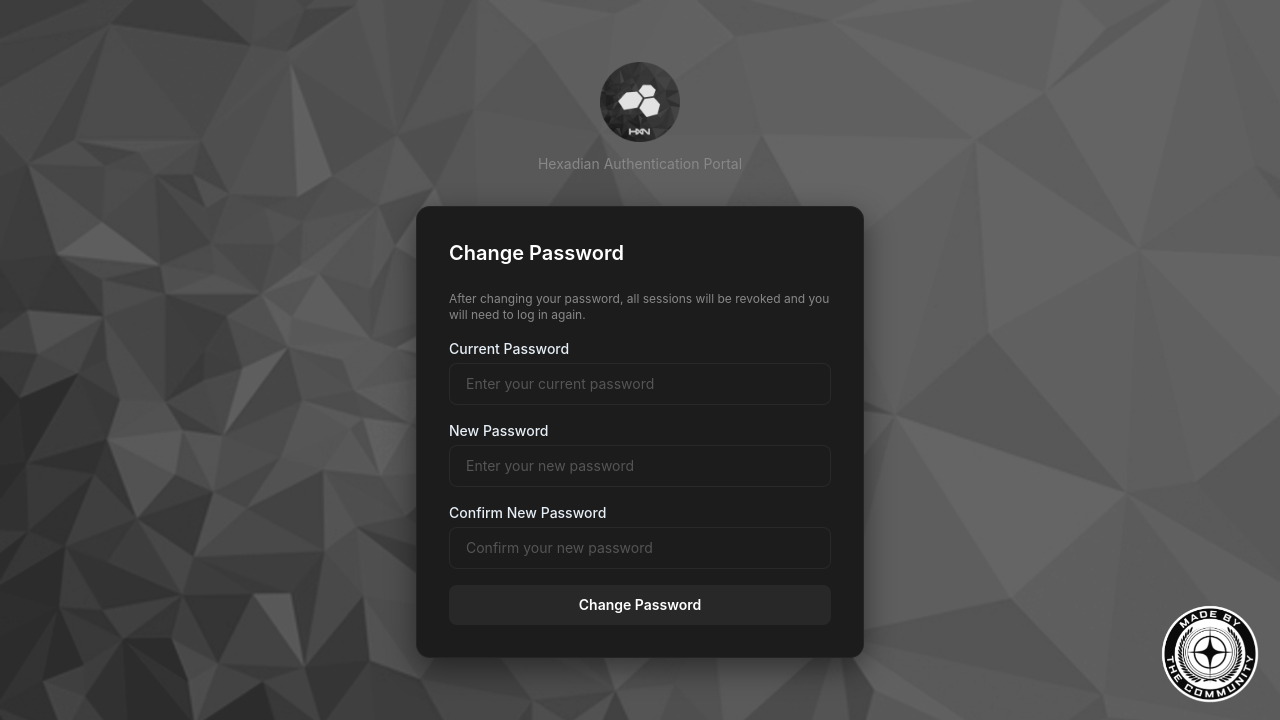
Test case: ChangePasswordPage › validation › shows validation errors on empty submit
Step 1. Click the button "Change Password" → (640, 605), box [449,585,831,625]
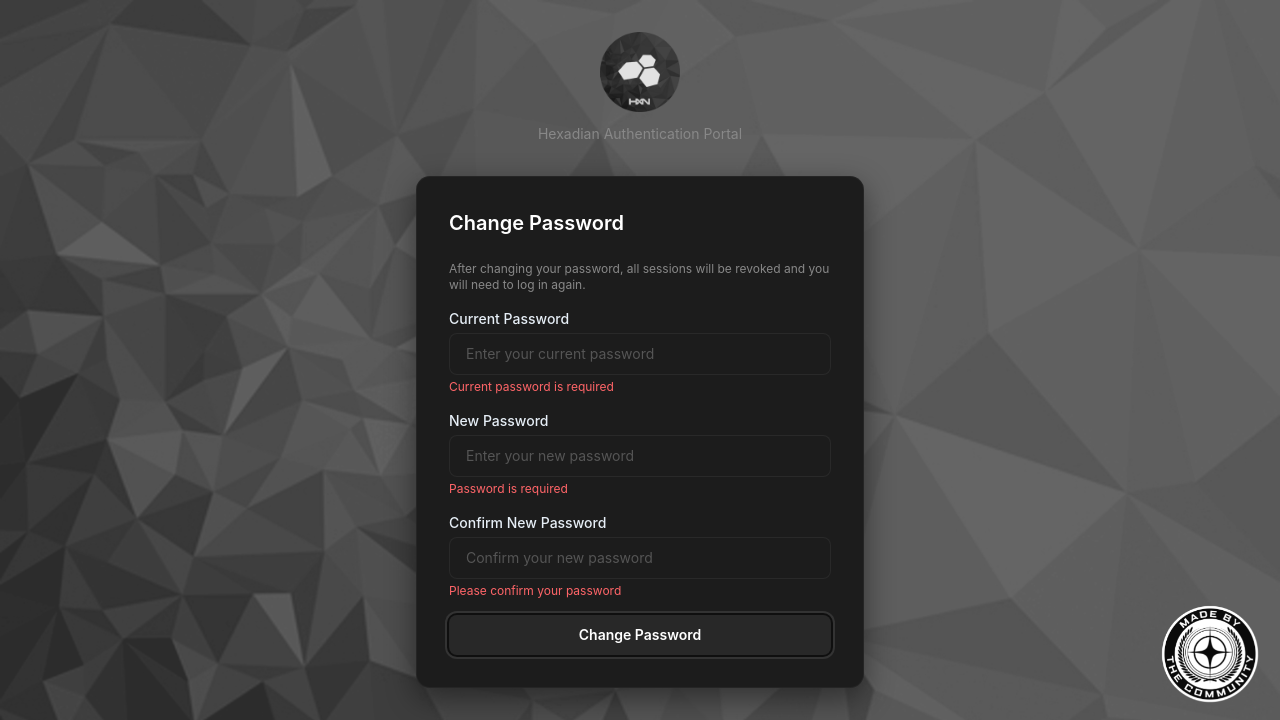
Result: the text "Current password is required" is shown at [449,379,614,394]
Result: the text "Password is required" is shown at [449,481,568,496]
Result: the text "Please confirm your password" is shown at [449,583,621,598]
